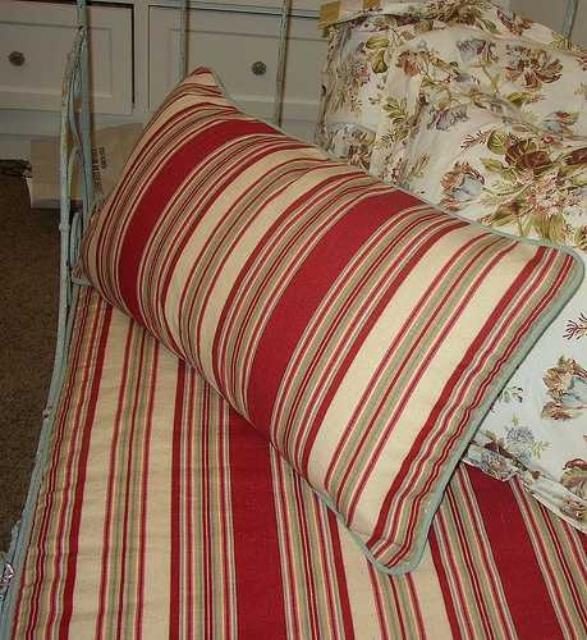pillow: (75, 64, 585, 576)
